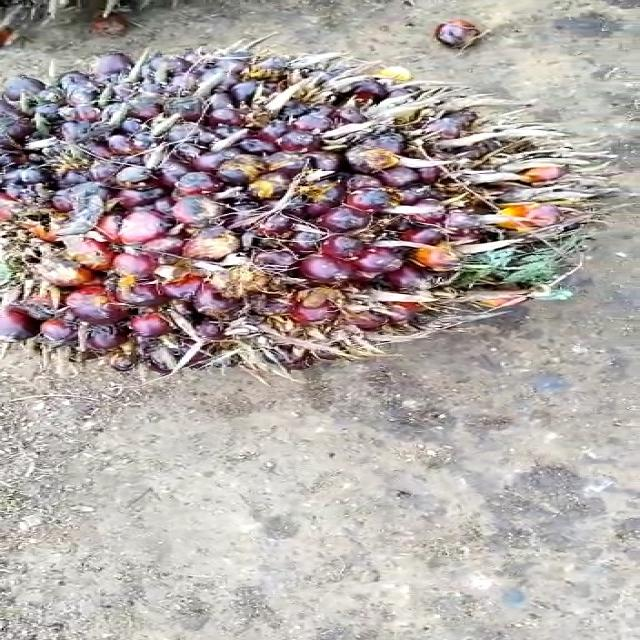palm oil: (0, 41, 626, 383)
